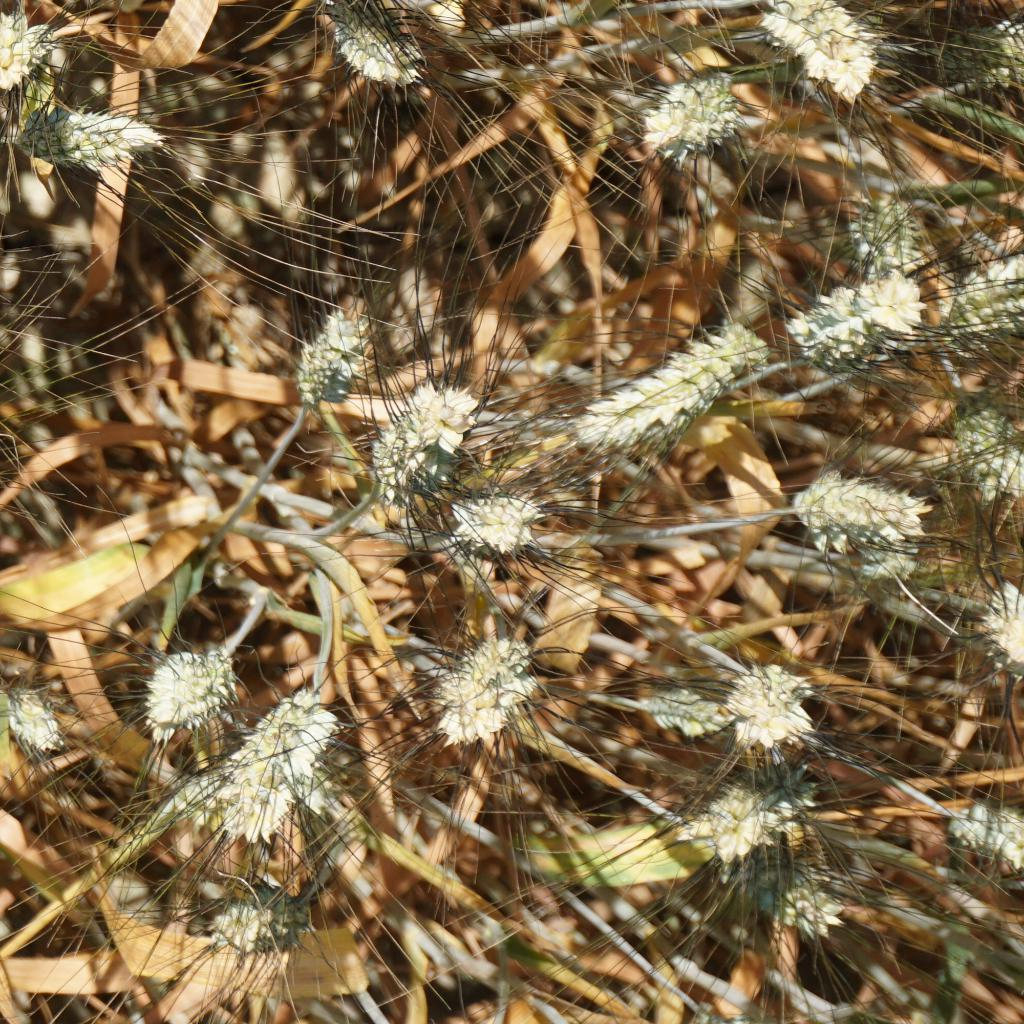0-0: (554, 319, 780, 458), (223, 669, 368, 831), (421, 606, 559, 763), (358, 366, 487, 508), (762, 0, 901, 98), (614, 68, 741, 172), (22, 96, 175, 182), (139, 623, 245, 740), (780, 470, 928, 552), (282, 304, 386, 412), (204, 877, 324, 968), (784, 276, 908, 364), (328, 0, 434, 98), (687, 781, 783, 888), (726, 657, 817, 764), (949, 392, 1024, 507), (844, 194, 927, 273), (447, 489, 540, 552), (753, 873, 849, 934), (939, 802, 1024, 868), (627, 684, 728, 739), (943, 265, 1024, 333), (934, 18, 1024, 78), (848, 539, 924, 592), (974, 583, 1024, 659), (11, 682, 65, 752), (0, 19, 49, 91)
